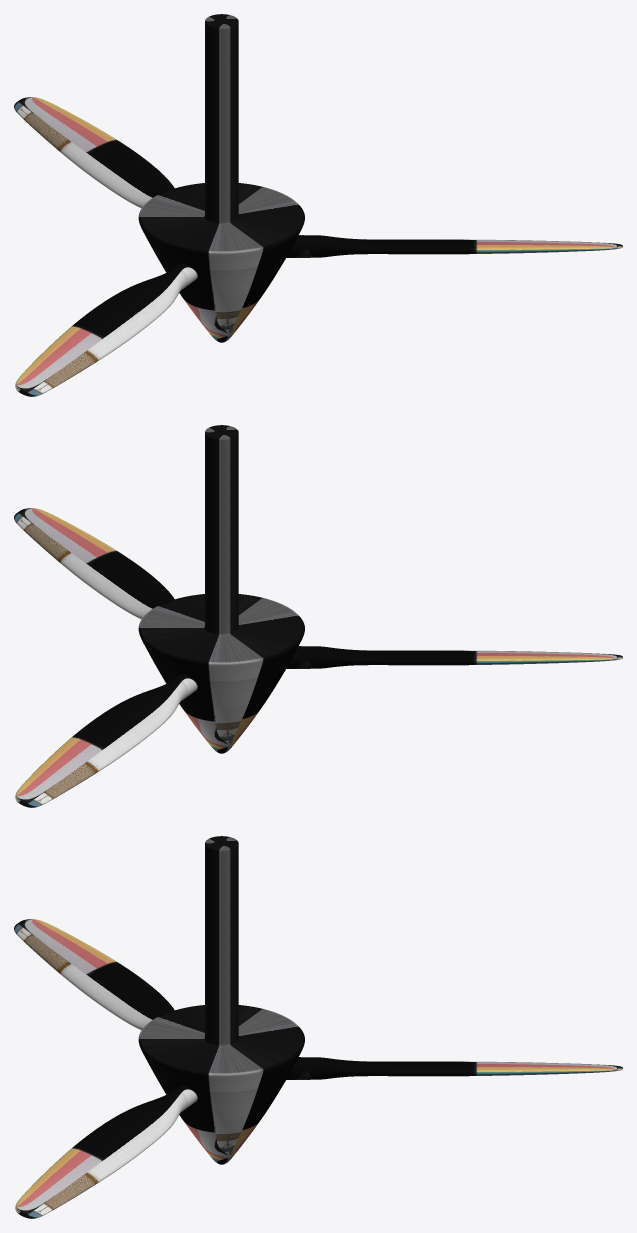
The model's file is prop.obj.
3 views of the same model, one above another, from view 1: azimuth 30°, elevation 25°; view 2: azimuth 150°, elevation 25°; view 3: azimuth 270°, elevation 25° (orthographic).
Visible parts, largest first — view 1: prop; view 2: prop; view 3: prop.
Boxes of the visible parts, x1,y1,x2,y2 form: prop: [14, 14, 622, 396]; prop: [14, 425, 622, 807]; prop: [14, 836, 622, 1218].
Bounding box in the file's own units: 218 × 111 × 190.
1 material, 1 textured.
